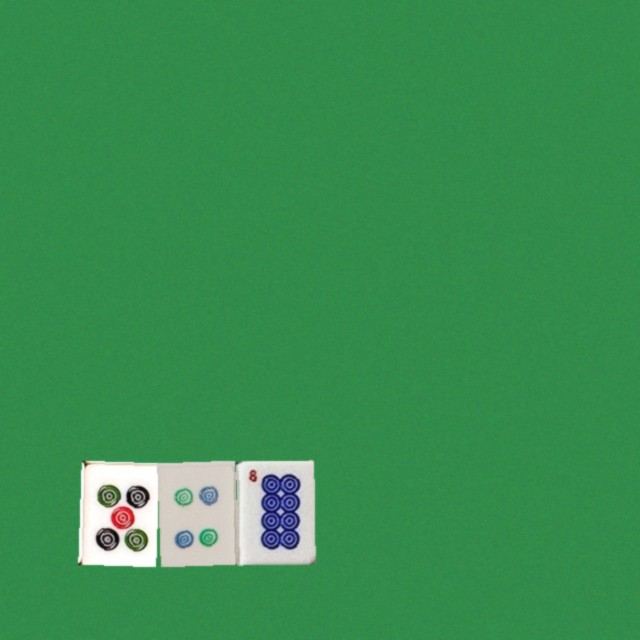tile: (78, 460, 156, 564), (157, 460, 235, 564), (236, 460, 314, 564)
